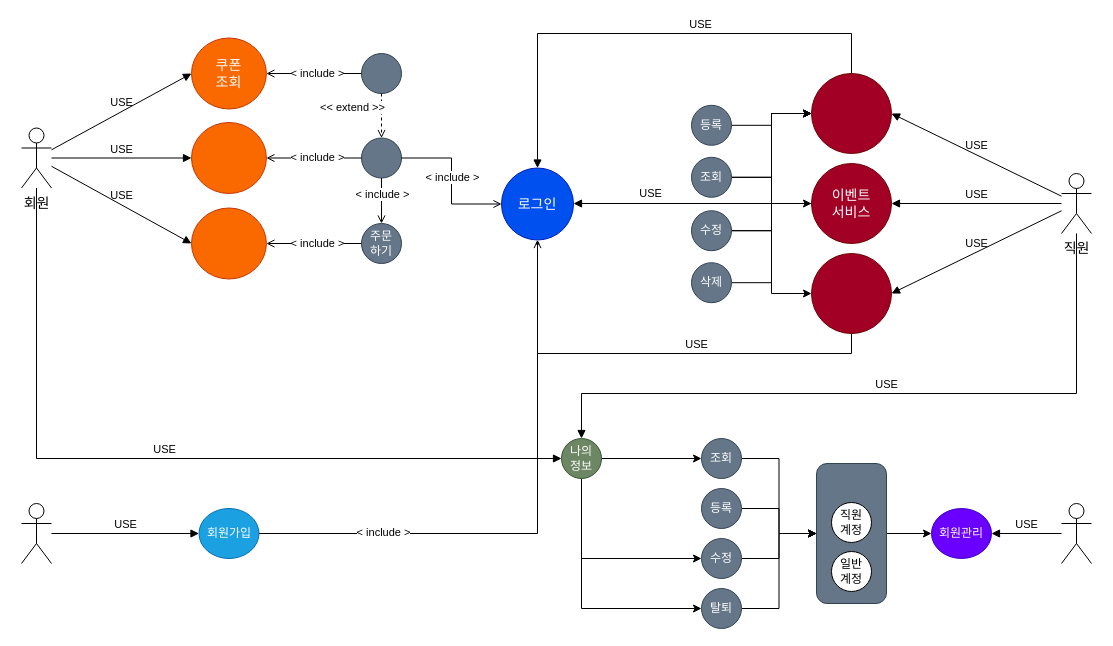
Image size: 1113x646. Some labels were removed from this diagram. Here are the shapes that lost their labels. From the top down, the box of each, then its label:
(360, 52, 402, 94): 쿠폰
(810, 72, 892, 154): 주문 서비스
(190, 122, 266, 194): 주문하기
(360, 137, 402, 178): 결제
(190, 207, 266, 279): 장바구니 조회
(810, 252, 892, 334): 공지/알림 서비스
(20, 502, 52, 564): 비회원
(816, 462, 886, 604): 전체
(1060, 502, 1092, 564): 관리자
